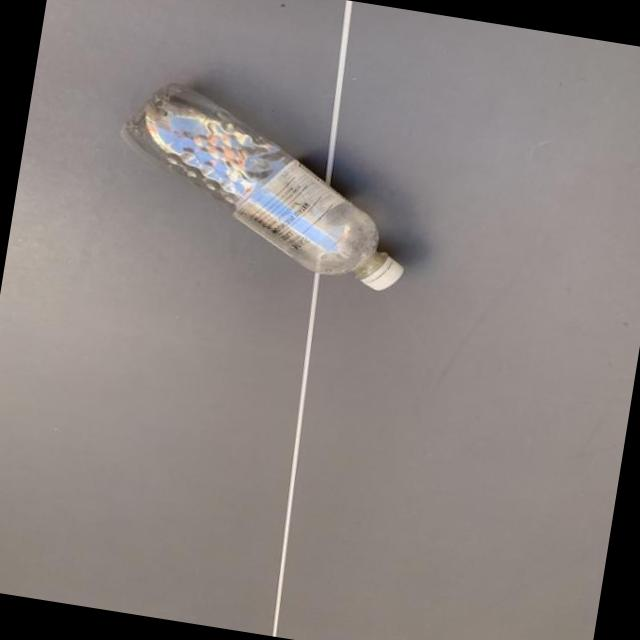plastic_bottle: (102, 74, 430, 294)
